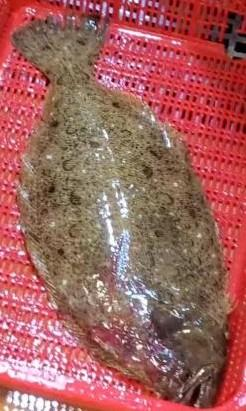fish: (9, 12, 230, 407)
